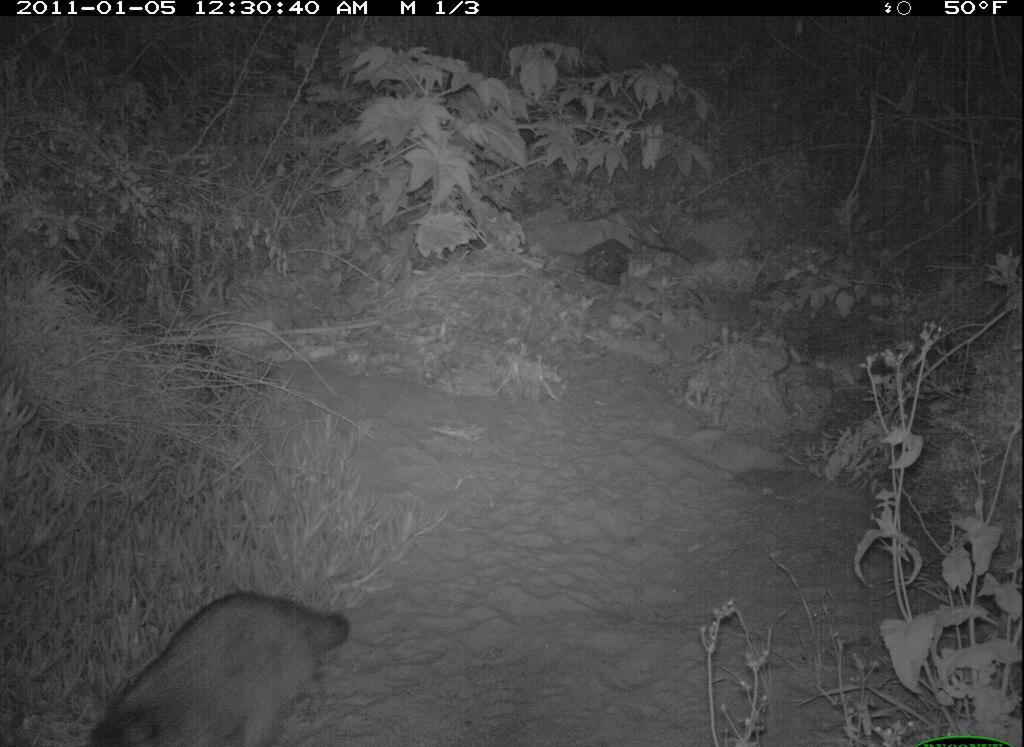raccoon: (80, 588, 353, 747)
